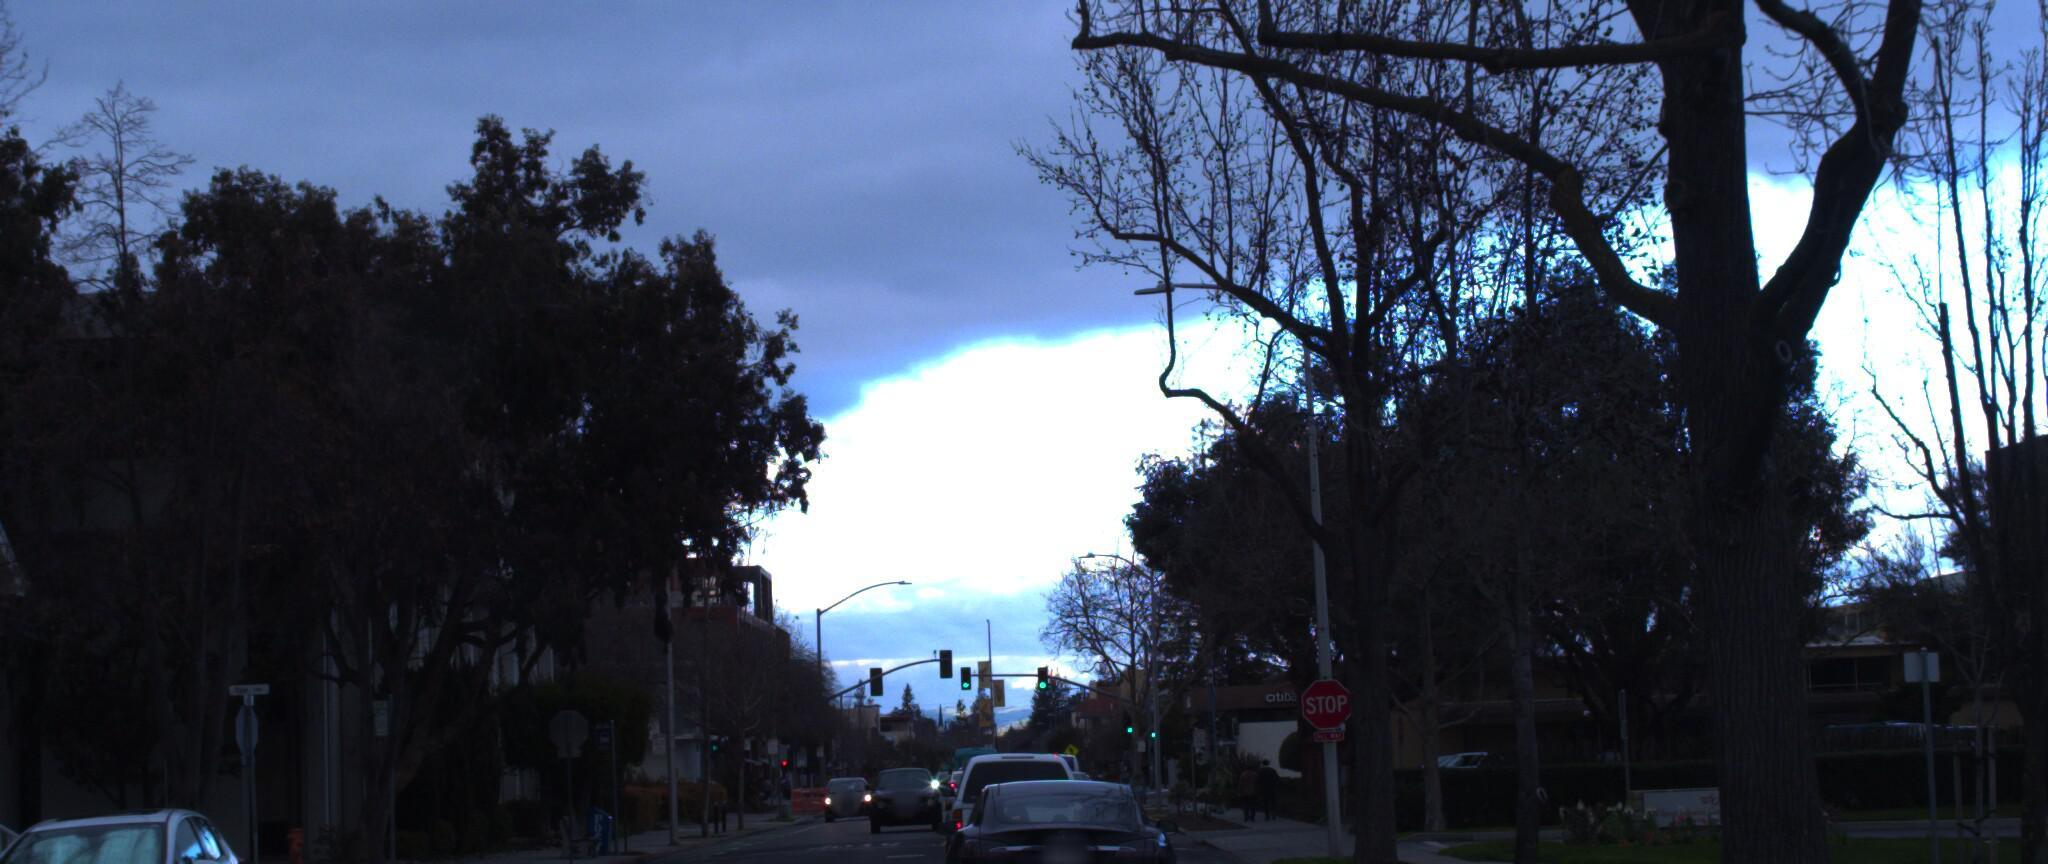car: (923, 722, 1109, 864), (922, 757, 1159, 864), (0, 810, 268, 864)
